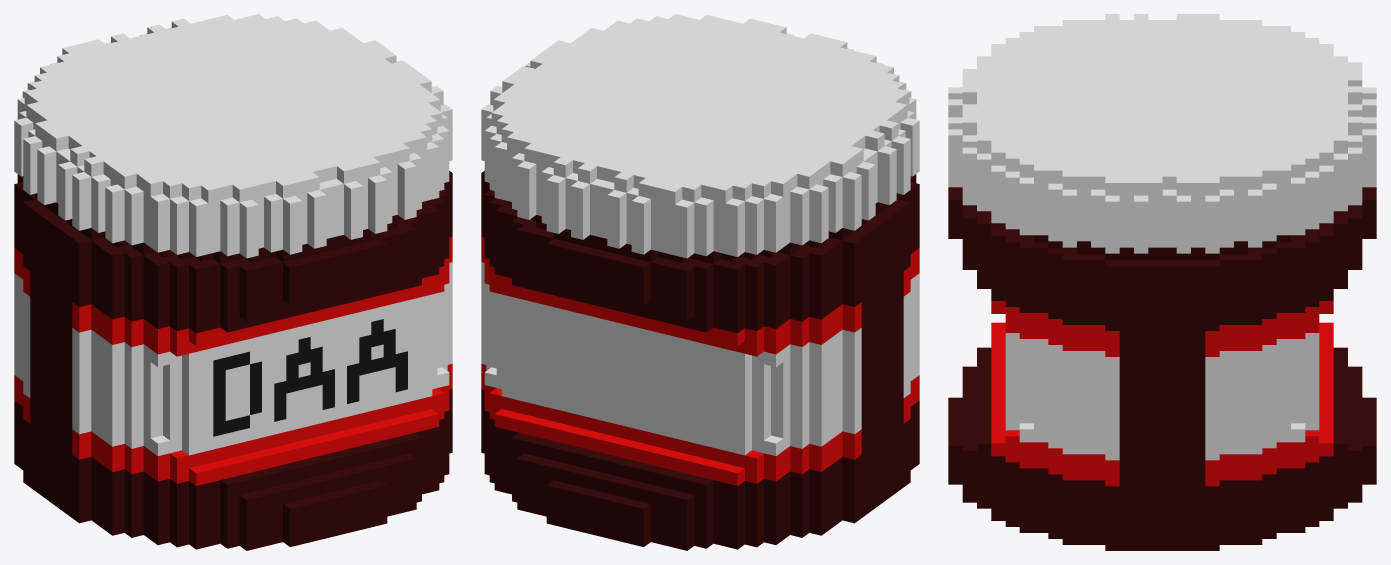
The model's file is Nutella.fbx.
3 views of the same model, side by side, from view 1: azimuth 30°, elevation 25°; view 2: azimuth 150°, elevation 25°; view 3: azimuth 270°, elevation 25° (orthographic).
Visible parts, largest first — view 1: Polygon; view 2: Polygon; view 3: Polygon.
Boxes of the visible parts, left/top/right/bottom form: Polygon: left=14, top=14, right=452, bottom=550; Polygon: left=481, top=14, right=919, bottom=550; Polygon: left=948, top=14, right=1376, bottom=550.
Bounding box in the file's own units: 3 × 2.8 × 3.
1 material, 1 textured.
